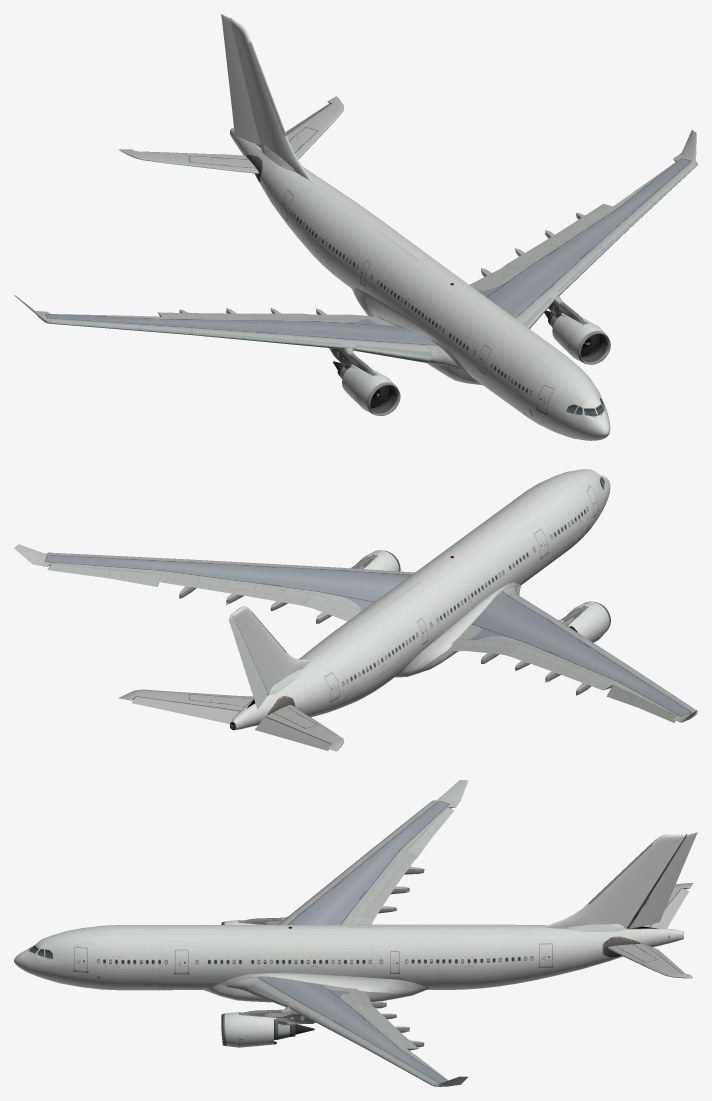
3 renders of one model, top to bottom at view 1: azimuth 30°, elevation 25°; view 2: azimuth 150°, elevation 25°; view 3: azimuth 270°, elevation 25°, orthographic. The views are drawn at different scales.
Visible parts, largest first — view 1: node_2, node_4, node_5, node_7, node_6; view 2: node_2, node_4, node_5, node_6, node_7; view 3: node_2, node_5, node_4, node_6, node_7.
Boxes of the visible parts, box(x1,y1,x2,y2) form: node_2: box(118, 14, 610, 440); node_4: box(474, 130, 697, 318); node_5: box(14, 295, 459, 368); node_7: box(51, 319, 343, 349); node_6: box(551, 163, 696, 295); node_2: box(47, 469, 676, 751); node_4: box(14, 544, 411, 614); node_5: box(452, 586, 697, 722); node_6: box(52, 552, 342, 569); node_7: box(551, 620, 695, 710); node_2: box(14, 807, 697, 1080); node_5: box(286, 780, 468, 924); node_4: box(225, 977, 467, 1086); node_6: box(292, 1004, 434, 1084); node_7: box(293, 802, 434, 912).
Bounding box in the file's own units: 60.29 × 15.73 × 58.74.
Materials: 2 (2 with a texture image).
